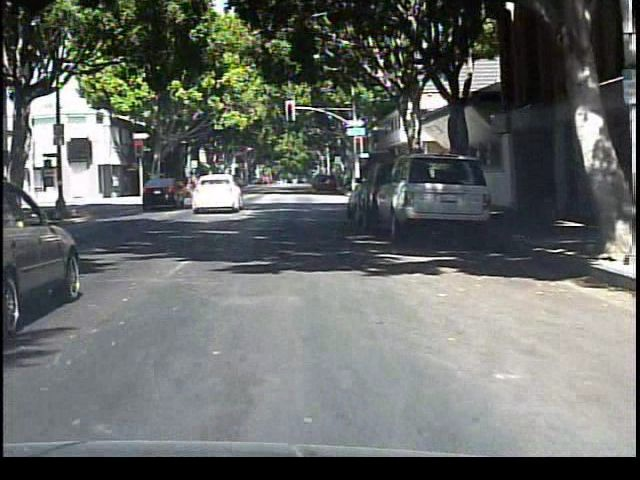person: (183, 168, 208, 209)
